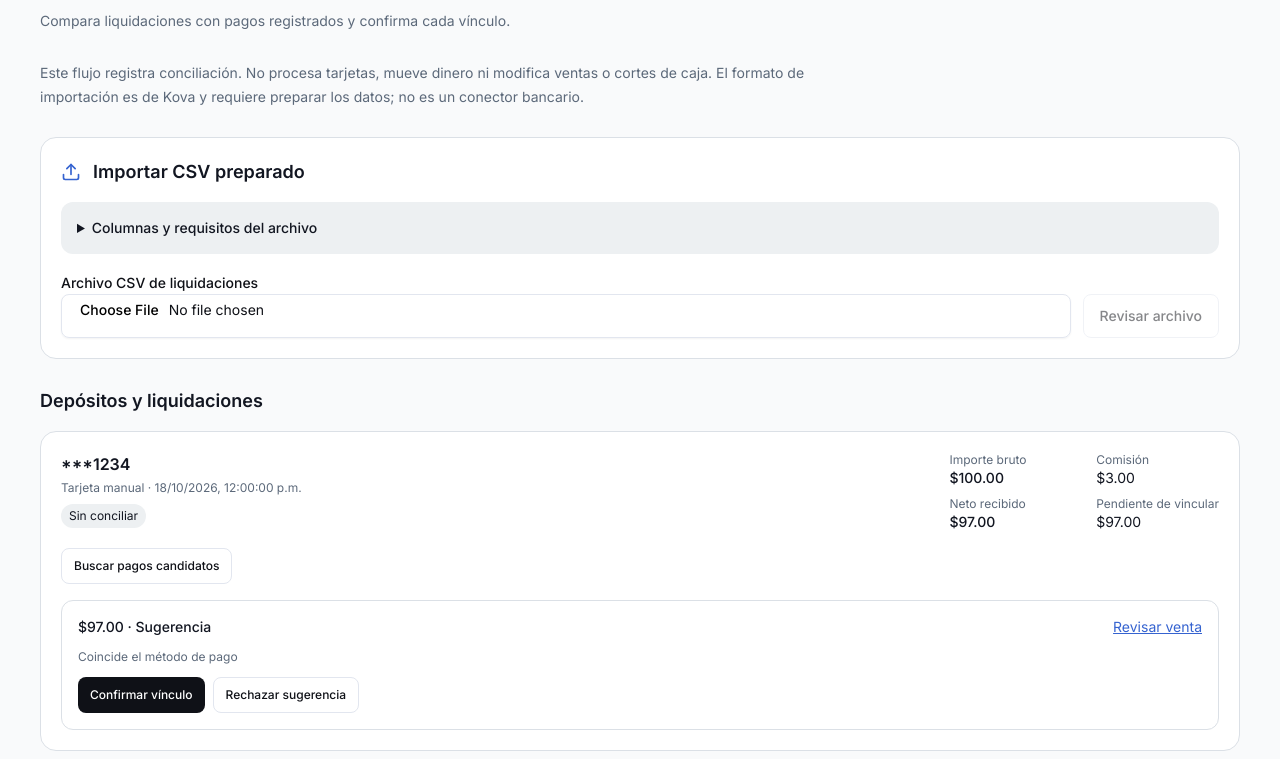
confirms a specific suggestion using its current version
(page scrolled)
Click the button "Confirmar vínculo". click: (141, 695)
box: [78, 677, 204, 713]
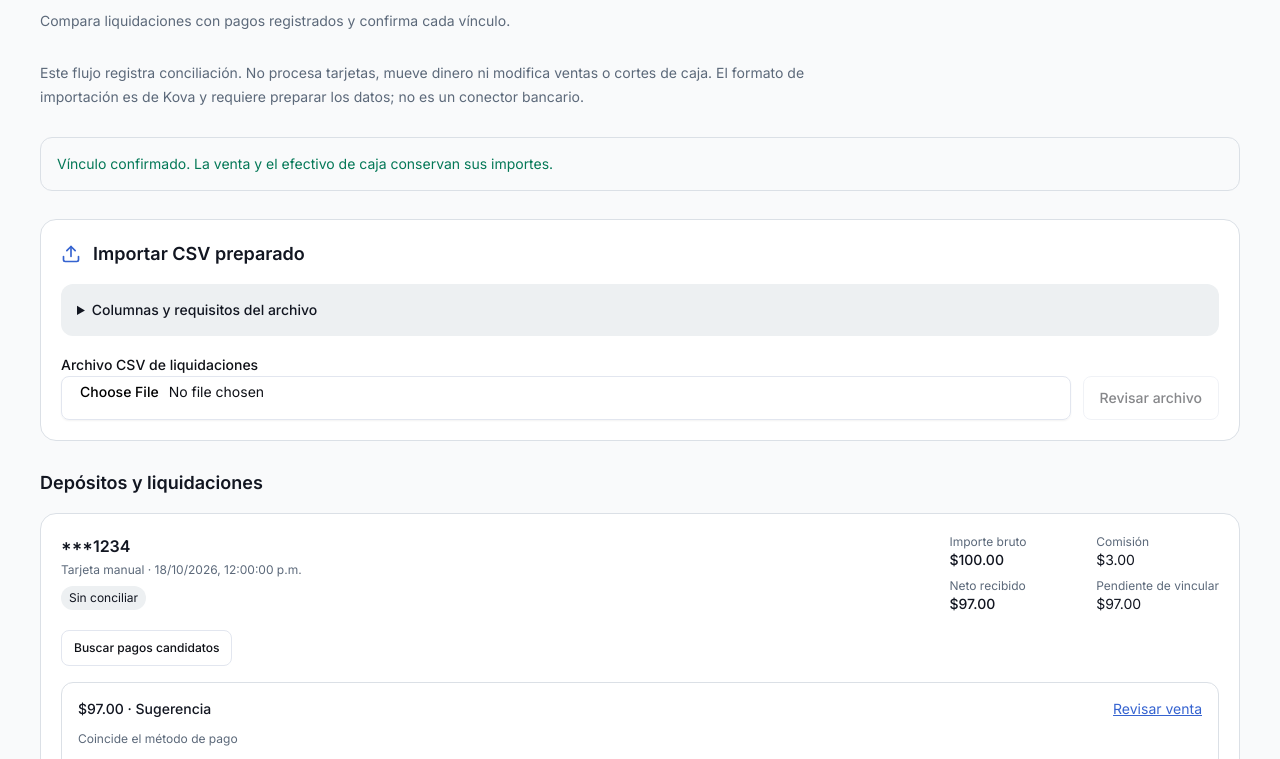
Now the text "Vínculo confirmado. La venta y el efectivo de caja conservan sus importes." is shown, box [40, 137, 1240, 191]
